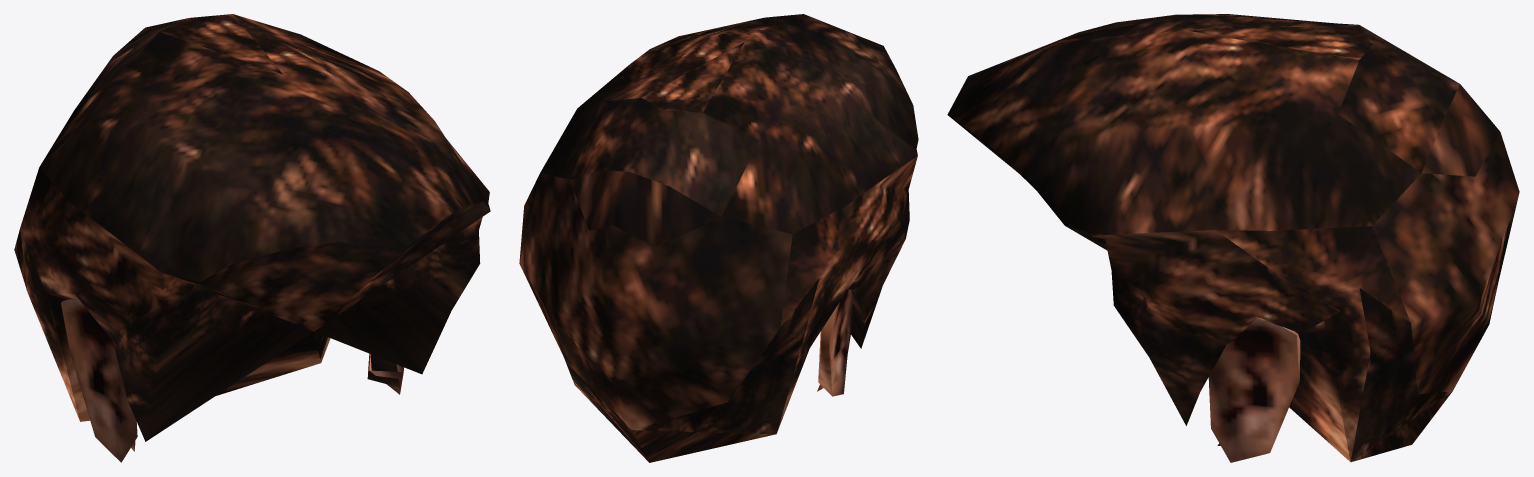
File: b_n_imperial_m_hair_04.glb
3 renders of one model, left to right at view 1: azimuth 30°, elevation 25°; view 2: azimuth 150°, elevation 25°; view 3: azimuth 270°, elevation 25°, orthographic. The views are drawn at different scales.
Visible parts, largest first — view 1: Tri B_N_Imperial_M_Hair_04 0, Tri B_N_Imperial_M_Hair_04 1; view 2: Tri B_N_Imperial_M_Hair_04 0, Tri B_N_Imperial_M_Hair_04 1; view 3: Tri B_N_Imperial_M_Hair_04 0, Tri B_N_Imperial_M_Hair_04 1.
Boxes of the visible parts, bbox=[...] form: Tri B_N_Imperial_M_Hair_04 0: bbox=[14, 14, 490, 451]; Tri B_N_Imperial_M_Hair_04 1: bbox=[61, 299, 403, 462]; Tri B_N_Imperial_M_Hair_04 0: bbox=[519, 14, 918, 462]; Tri B_N_Imperial_M_Hair_04 1: bbox=[818, 289, 852, 396]; Tri B_N_Imperial_M_Hair_04 0: bbox=[947, 14, 1519, 462]; Tri B_N_Imperial_M_Hair_04 1: bbox=[1208, 318, 1300, 462].
Size of the model in its own units: 0.1204 by 0.1345 by 0.1685.
1 material, 1 textured.
